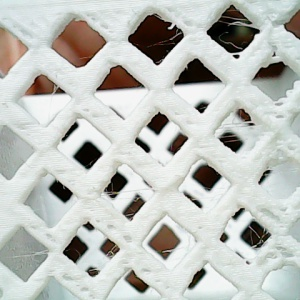3dpstringing: (214, 12, 259, 59), (103, 184, 156, 223), (214, 110, 260, 149), (164, 230, 197, 266), (91, 244, 124, 277), (242, 222, 272, 256), (10, 245, 54, 268), (45, 86, 61, 128), (186, 193, 220, 211), (167, 16, 183, 54), (264, 161, 297, 179), (263, 51, 281, 71), (70, 53, 99, 65), (266, 94, 291, 106)
3dpunderextrusion: (90, 215, 141, 250), (263, 110, 299, 156), (136, 264, 175, 297), (57, 271, 105, 297), (255, 202, 295, 227), (84, 10, 119, 37), (275, 237, 300, 268)
